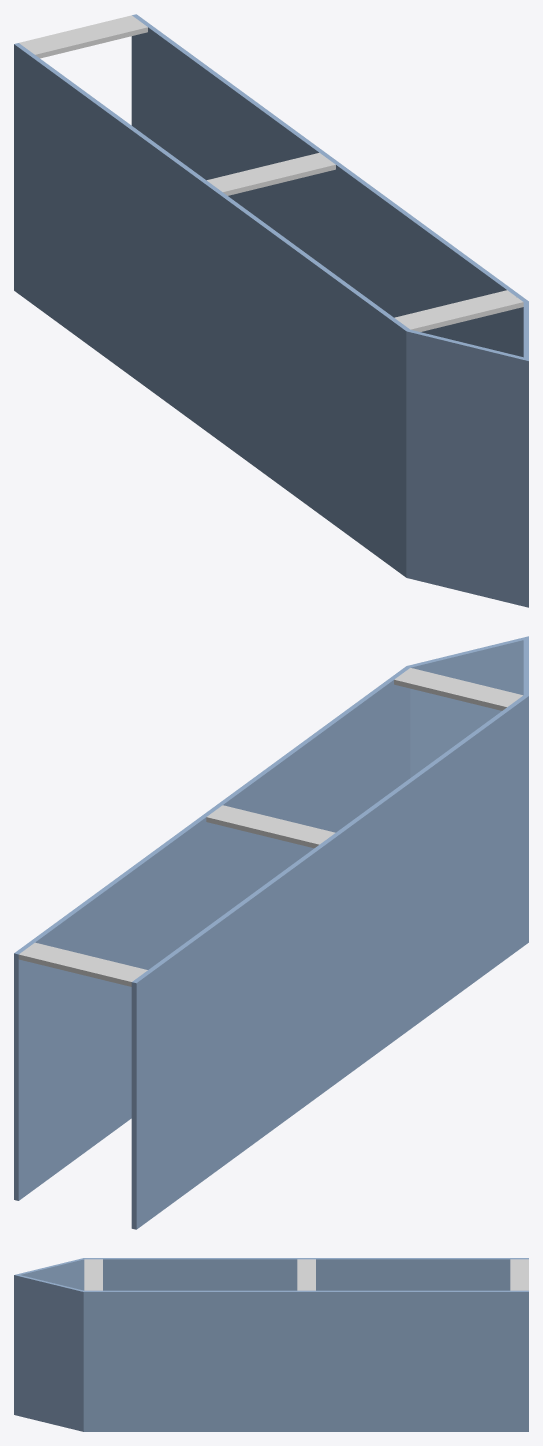
Rendered from uv-overflow-weir.gltf.
3 renders of one model, top to bottom at view 1: azimuth 30°, elevation 25°; view 2: azimuth 150°, elevation 25°; view 3: azimuth 270°, elevation 25°, orthographic. The views are drawn at different scales.
Visible parts, largest first — view 1: 拉伸 [214170], 拉伸 [214201]; view 2: 拉伸 [214170], 拉伸 [214201]; view 3: 拉伸 [214170], 拉伸 [214201].
Boxes of the visible parts, x1,y1,x2,y2 form: 拉伸 [214170]: [14, 14, 528, 607]; 拉伸 [214201]: [19, 15, 523, 331]; 拉伸 [214170]: [14, 636, 528, 1229]; 拉伸 [214201]: [18, 668, 522, 986]; 拉伸 [214170]: [14, 1258, 528, 1431]; 拉伸 [214201]: [84, 1259, 528, 1290].
Size of the model in its own units: 0.26 by 0.5 by 1.67.
